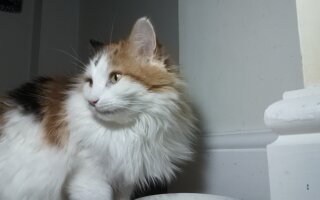clara: (2, 20, 203, 199)
